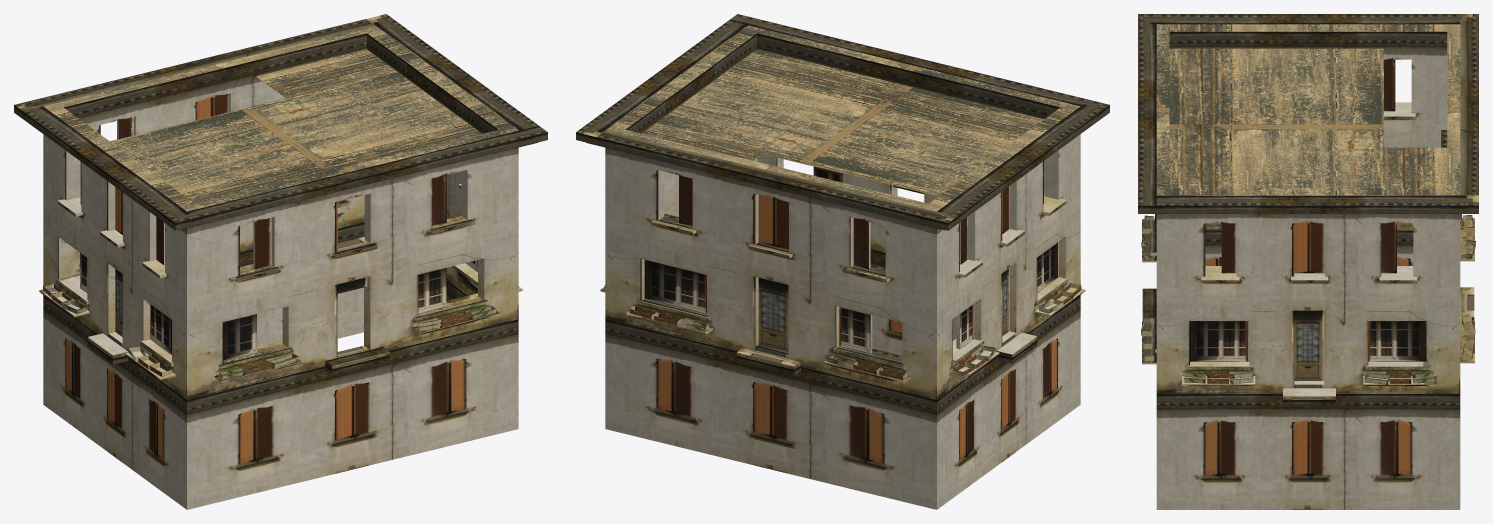
The model's file is BagBuilding19_140.fbx.
The picture shows the model from 3 angles, left to right: view 1: azimuth 30°, elevation 25°; view 2: azimuth 150°, elevation 25°; view 3: azimuth 270°, elevation 25°; orthographic projection. The views are drawn at different scales.
Visible parts, largest first — view 1: main140, roof140; view 2: main140, roof140; view 3: main140, roof140.
Part boxes in pixels (bbox=[...]): main140: bbox=[14, 14, 547, 509]; roof140: bbox=[43, 25, 518, 211]; main140: bbox=[576, 14, 1109, 509]; roof140: bbox=[605, 25, 1080, 211]; main140: bbox=[1138, 14, 1478, 509]; roof140: bbox=[1156, 24, 1460, 195].
Bounding box in the file's own units: 25.12 × 19.23 × 18.88.
